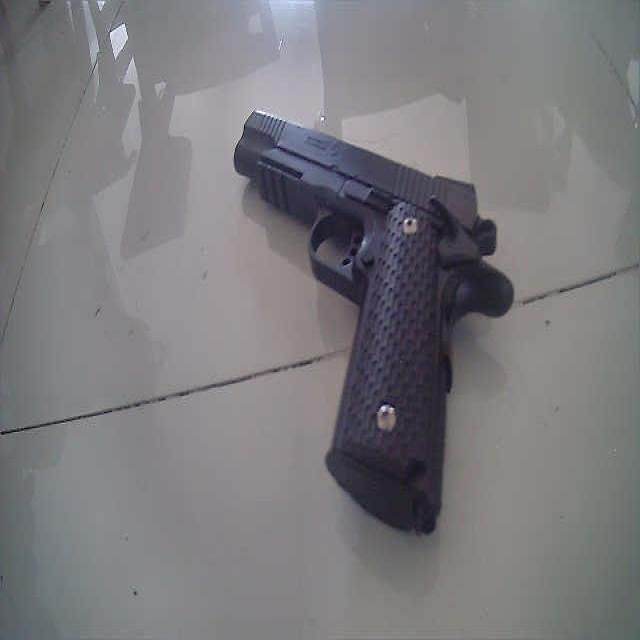pistol: (226, 103, 512, 536)
